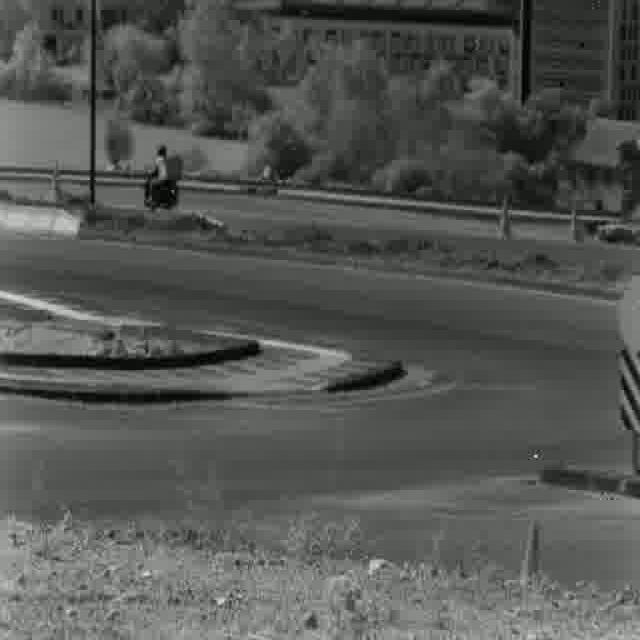Motorcycle: (141, 143, 181, 213)
